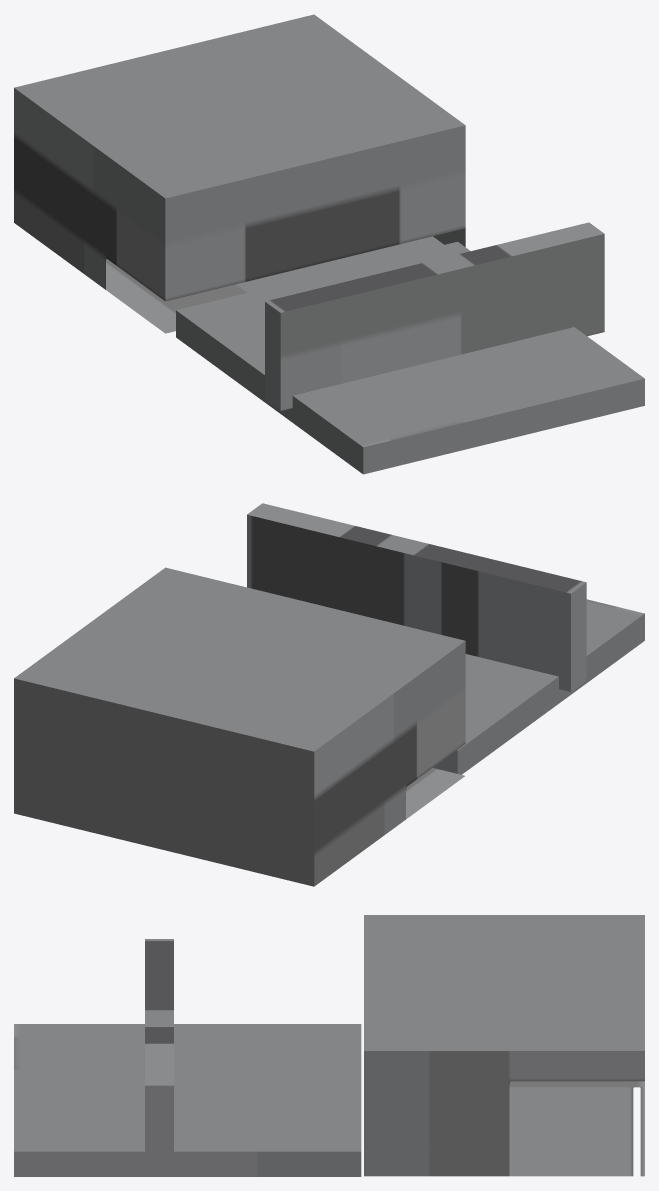
3 views of the same model, one above another, from view 1: azimuth 30°, elevation 25°; view 2: azimuth 150°, elevation 25°; view 3: azimuth 270°, elevation 25° (orthographic). The views are drawn at different scales.
Size of the model in its own units: 1.08 by 0.4462 by 1.96.
